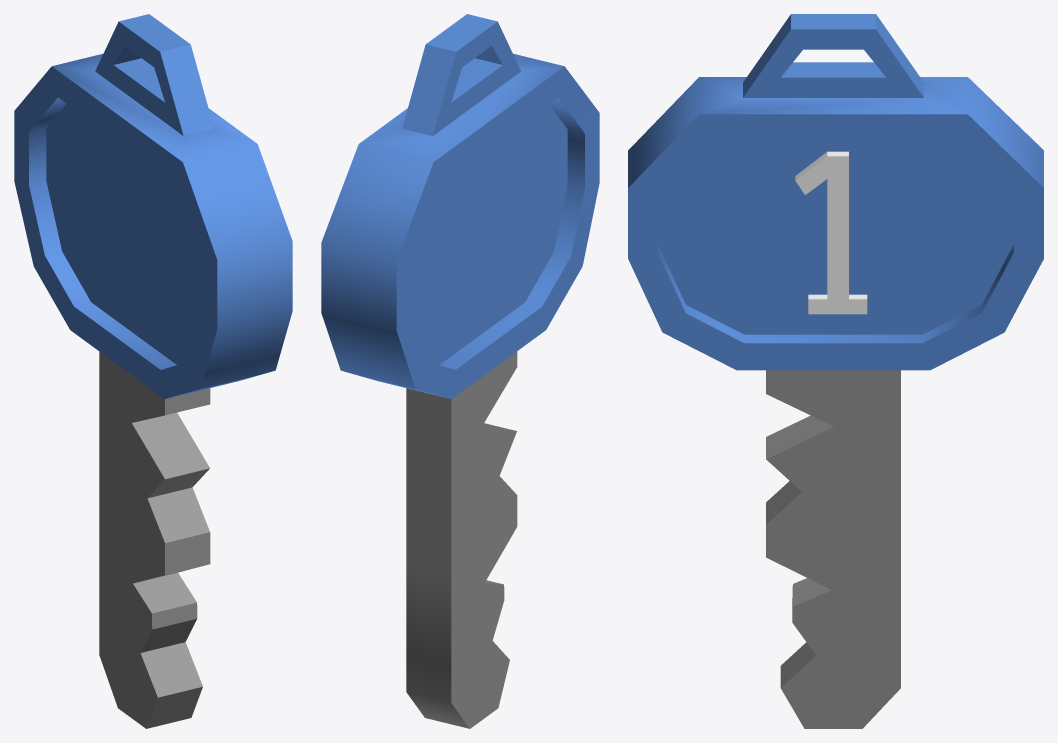
File: Key_1.fbx
3 renders of one model, left to right at view 1: azimuth 30°, elevation 25°; view 2: azimuth 150°, elevation 25°; view 3: azimuth 270°, elevation 25°, orthographic. The views are drawn at different scales.
Parts seen in each view (by area): view 1: Cube.001; view 2: Cube.001; view 3: Cube.001.
Part boxes in pixels (left/top/right/bottom): Cube.001: left=14, top=14, right=292, bottom=728; Cube.001: left=321, top=14, right=599, bottom=728; Cube.001: left=628, top=14, right=1043, bottom=728.
Size of the model in its own units: 52.12 by 449 by 243.
